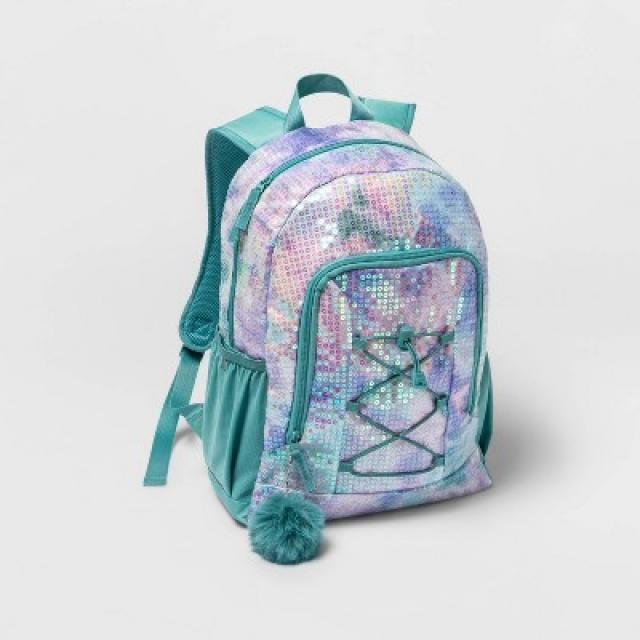Backpacks: (193, 115, 494, 527)
